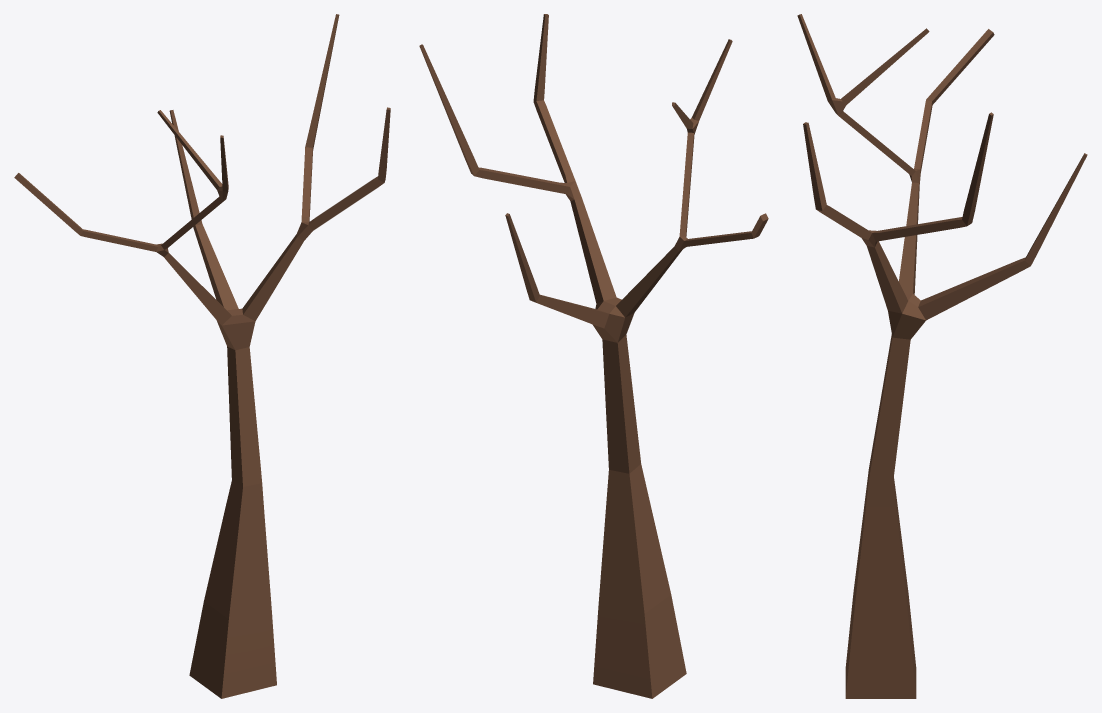
Rendered from tree 1.fbx.
3 renders of one model, left to right at view 1: azimuth 30°, elevation 25°; view 2: azimuth 150°, elevation 25°; view 3: azimuth 270°, elevation 25°, orthographic. The views are drawn at different scales.
Visible parts, largest first — view 1: tree.003; view 2: tree.003; view 3: tree.003.
Part boxes in pixels (box(x1,y1,x2,y2)): tree.003: box(14, 14, 390, 698); tree.003: box(419, 14, 768, 698); tree.003: box(797, 14, 1087, 698).
Bounding box in the file's own units: 1.15 × 1.99 × 0.8011.
